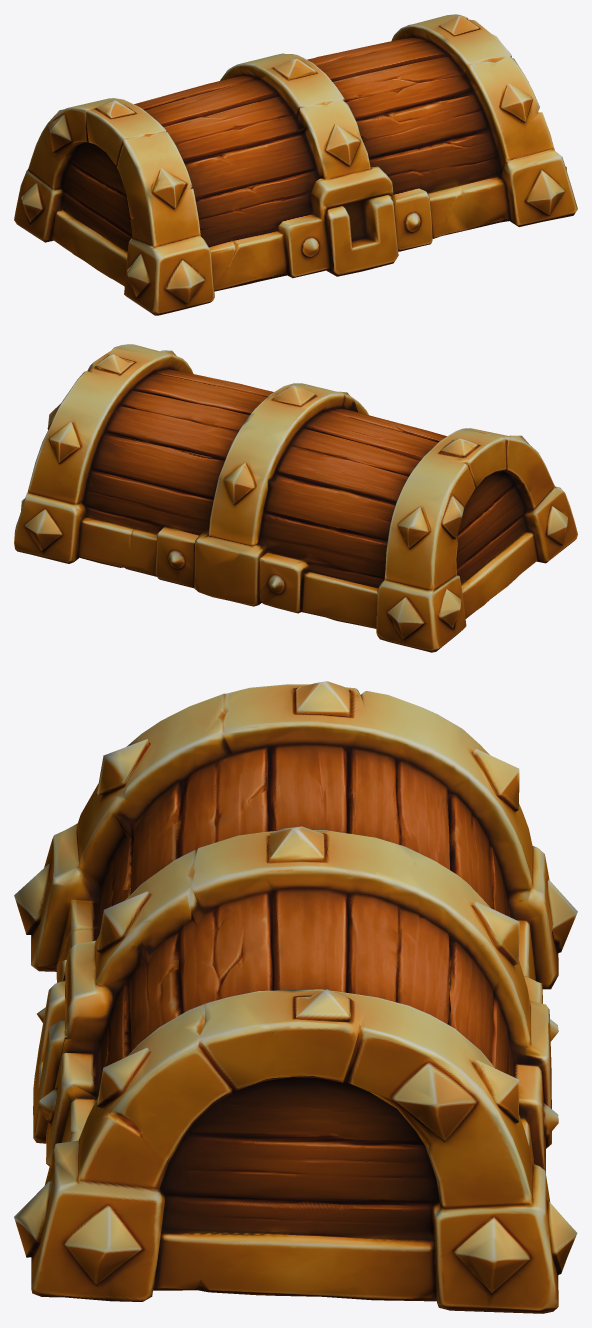
File: treasure_chest_lid.fbx
The picture shows the model from 3 angles, top to bottom: view 1: azimuth 30°, elevation 25°; view 2: azimuth 150°, elevation 25°; view 3: azimuth 270°, elevation 25°; orthographic projection. The views are drawn at different scales.
Visible parts, largest first — view 1: tripo_node_91bb9446; view 2: tripo_node_91bb9446; view 3: tripo_node_91bb9446.
Part boxes in pixels (x1,y1,x2,y2): tripo_node_91bb9446: (14, 14, 577, 315); tripo_node_91bb9446: (14, 344, 577, 652); tripo_node_91bb9446: (14, 681, 577, 1313).
Bounding box in the file's own units: 100 × 60.75 × 35.72.
1 material, 1 textured.
